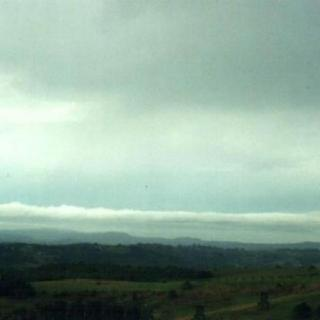Stratus: (5, 0, 320, 237)
